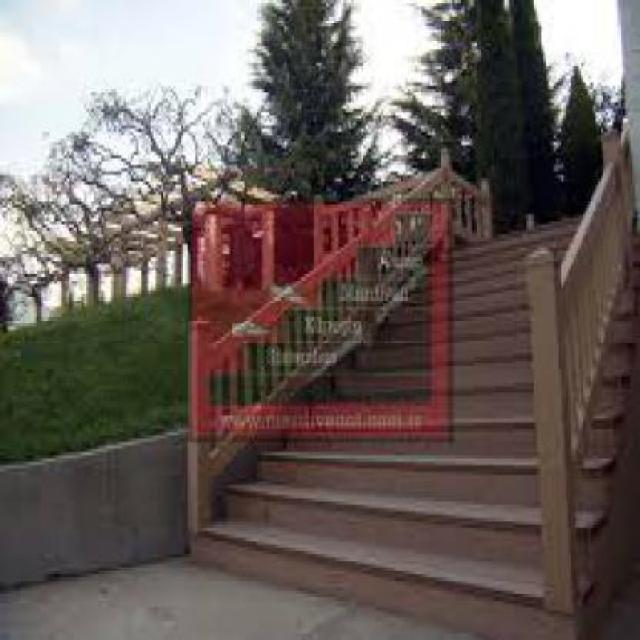stair: (181, 154, 625, 624)
